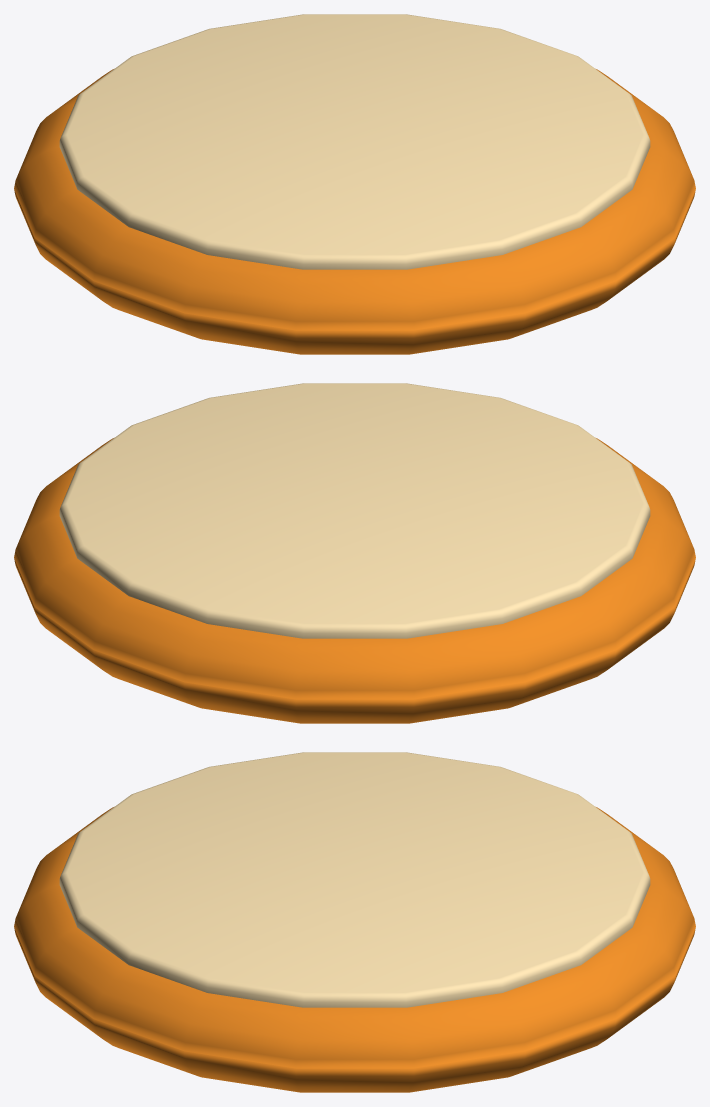
File: food_ingredient_bun_bottom.gltf
3 renders of one model, top to bottom at view 1: azimuth 30°, elevation 25°; view 2: azimuth 150°, elevation 25°; view 3: azimuth 270°, elevation 25°, orthographic.
Visible parts, largest first — view 1: BunBotCrust; view 2: BunBotCrust; view 3: BunBotCrust.
Boxes of the visible parts, bbox=[...] form: BunBotCrust: bbox=[14, 14, 695, 354]; BunBotCrust: bbox=[14, 383, 695, 723]; BunBotCrust: bbox=[14, 752, 695, 1092].
Bounding box in the file's own units: 0.4638 × 0.0735 × 0.4709.
